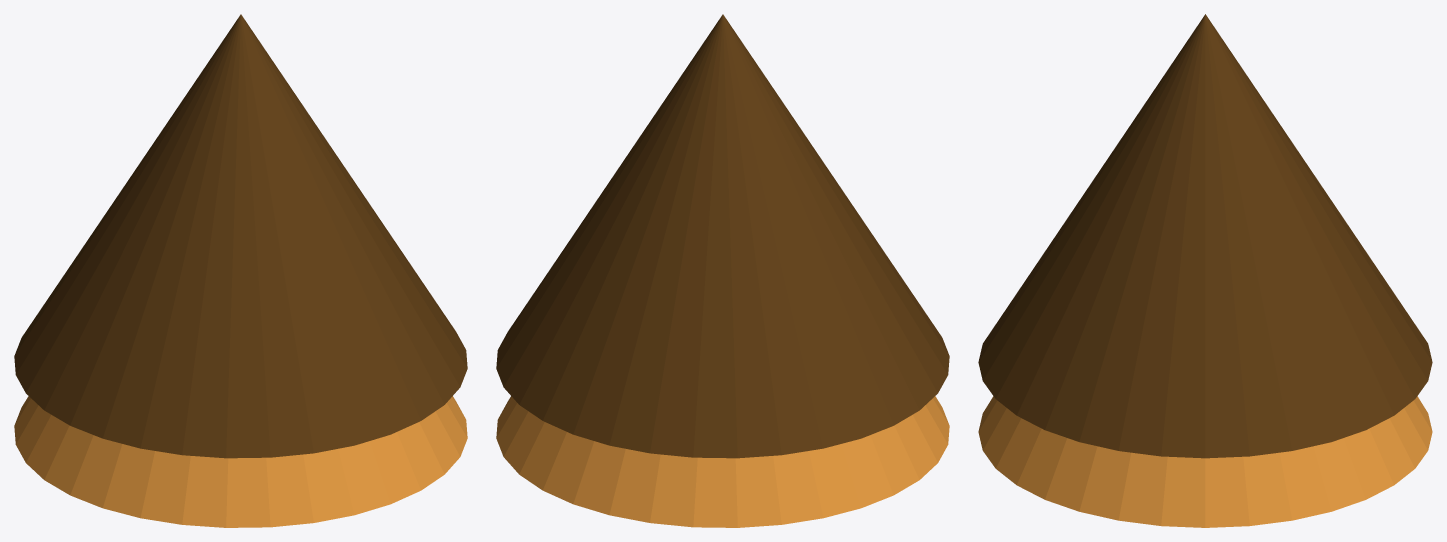
Rendered from takenoko.fbx.
The picture shows the model from 3 angles, left to right: view 1: azimuth 30°, elevation 25°; view 2: azimuth 150°, elevation 25°; view 3: azimuth 270°, elevation 25°; orthographic projection.
Parts seen in each view (by area): view 1: takenoko; view 2: takenoko; view 3: takenoko.
Part boxes in pixels (x1,y1,x2,y2): takenoko: [14, 14, 467, 527]; takenoko: [496, 14, 949, 527]; takenoko: [978, 14, 1432, 527].
Bounding box in the file's own units: 160 × 162 × 160.
